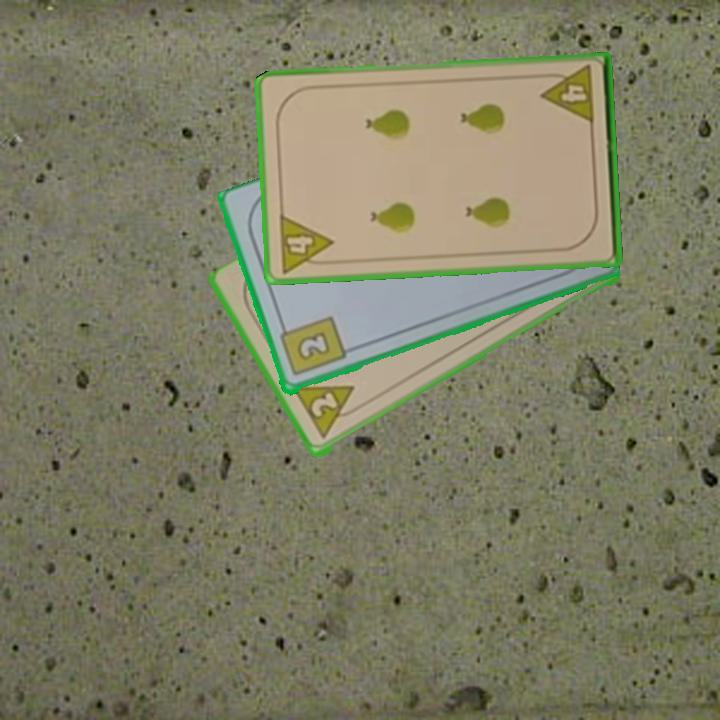2b: (276, 313, 348, 379)
2p: (307, 389, 341, 421)
4p: (275, 211, 337, 276), (538, 62, 597, 127)
